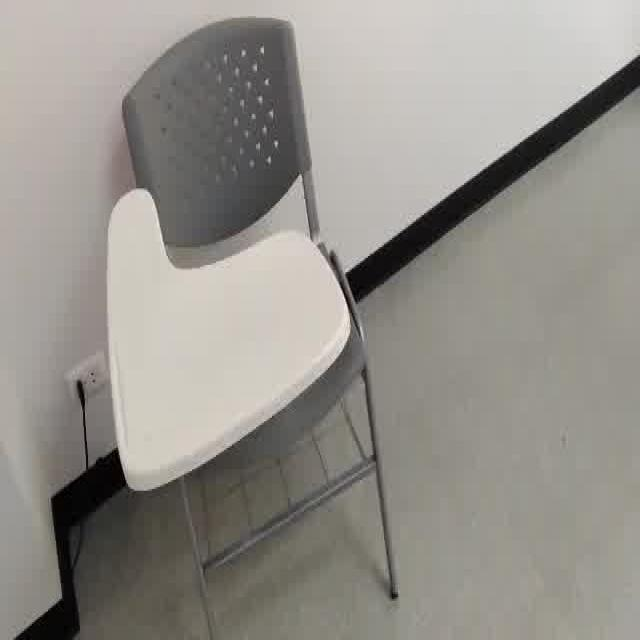chair: (87, 10, 415, 630)
